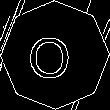O_N: (33, 29, 77, 81)
